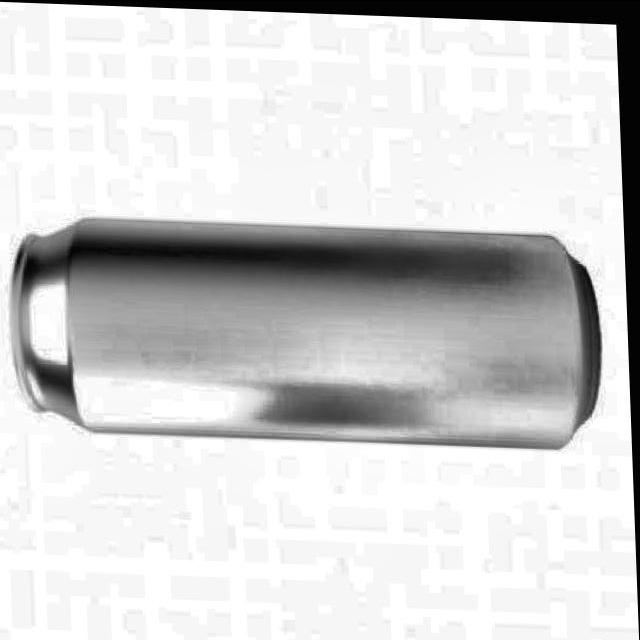Aluminum Can: (2, 208, 610, 461)
